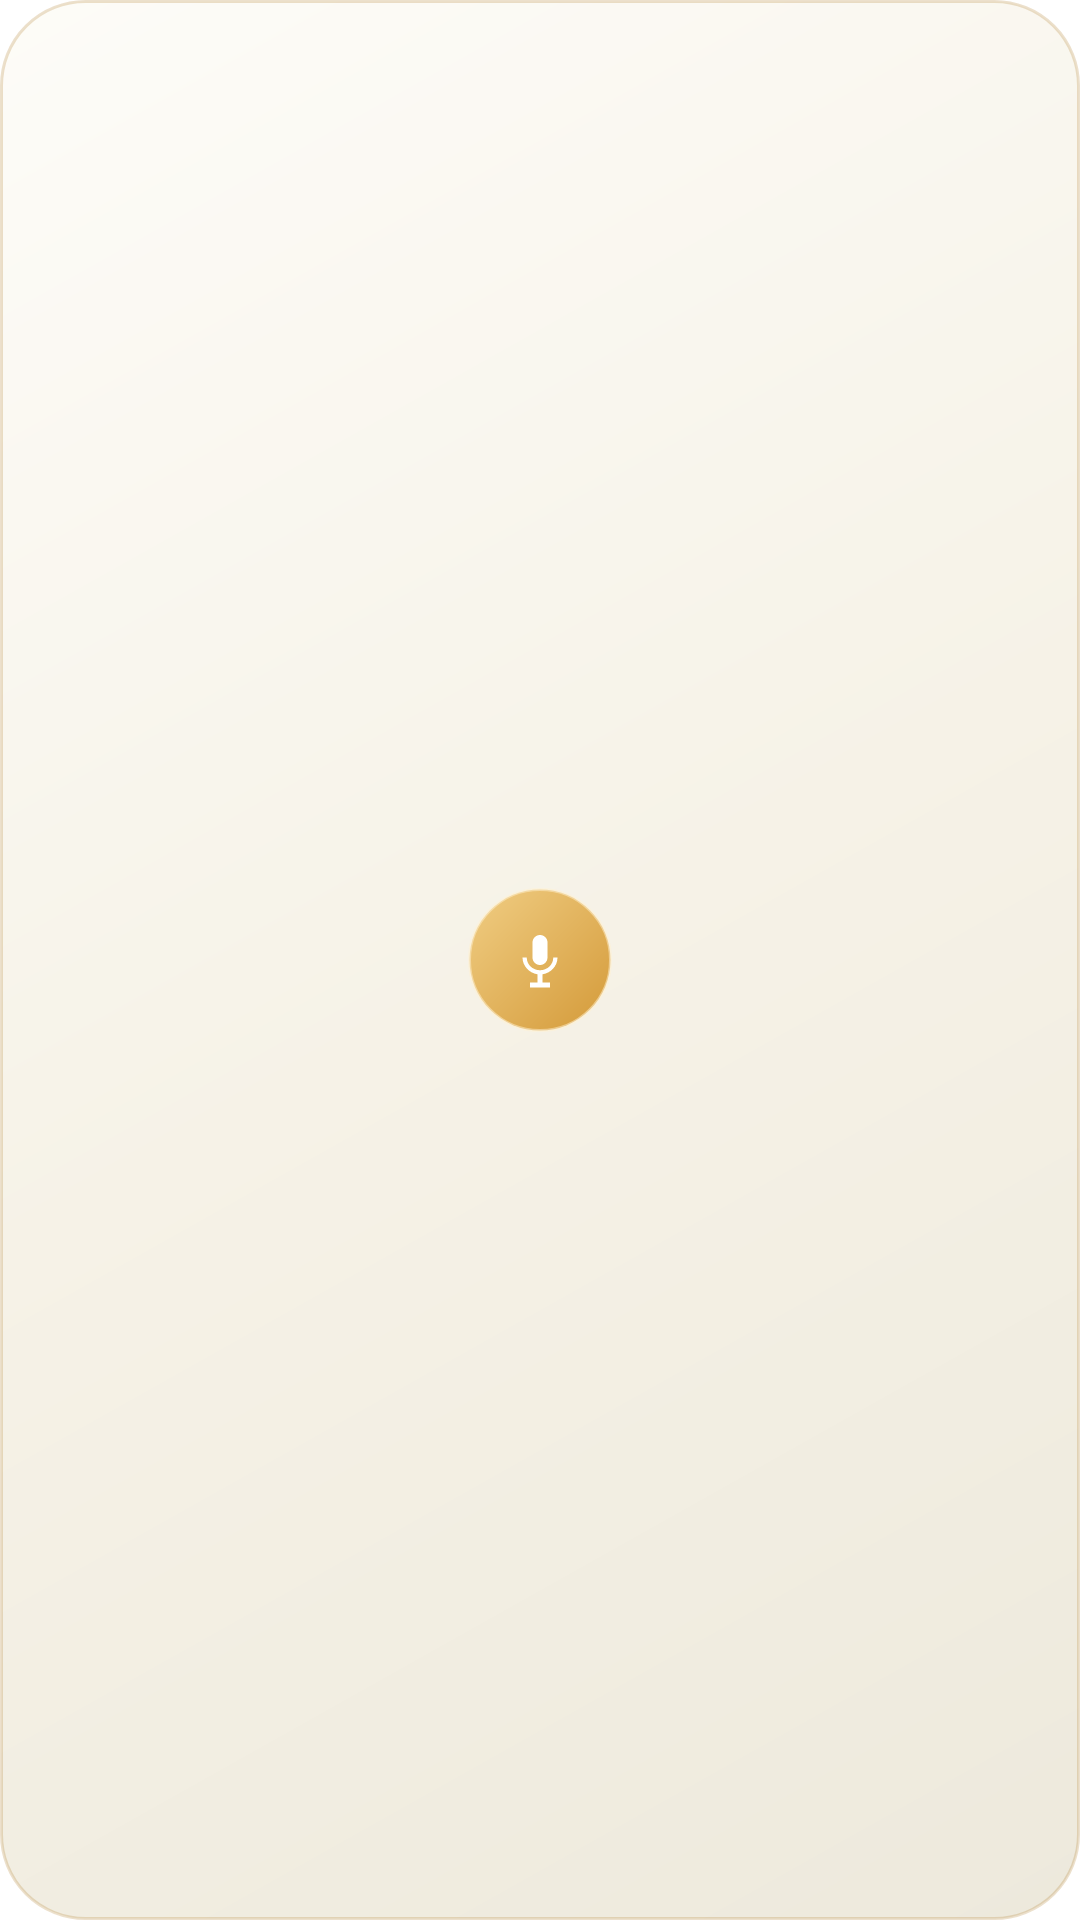

Named icons in this screenshot (1080×1920) and their centers, (x=x, y=y):
Start phone recording: (x=540, y=960)
